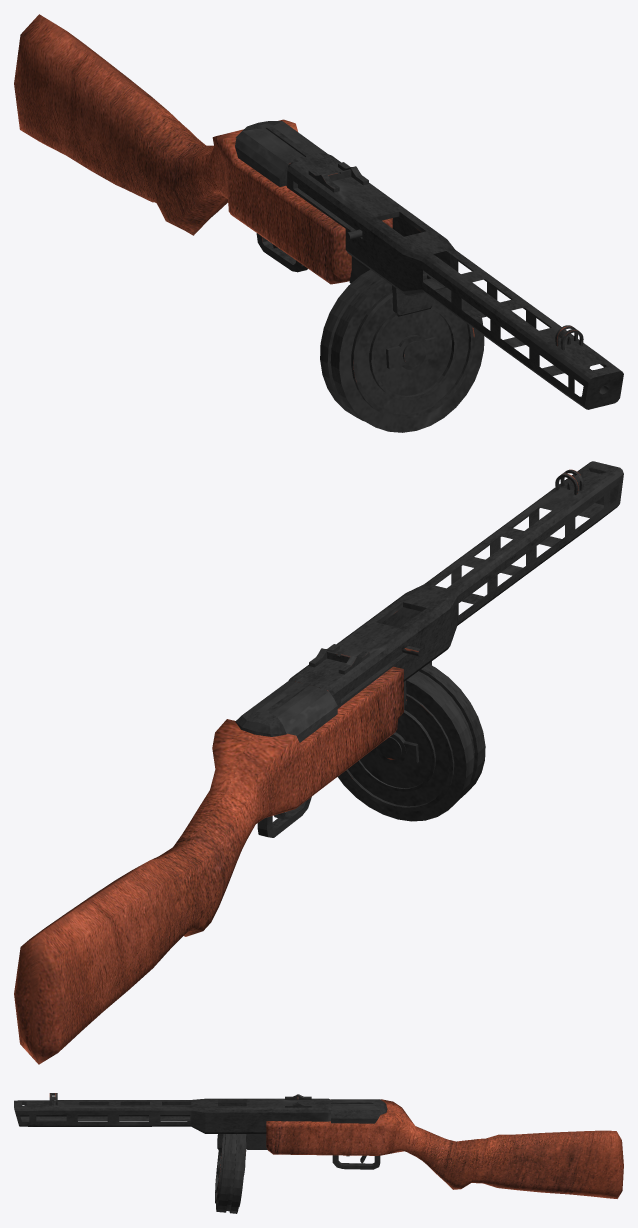
The model's file is PPSH.fbx.
The picture shows the model from 3 angles, top to bottom: view 1: azimuth 30°, elevation 25°; view 2: azimuth 150°, elevation 25°; view 3: azimuth 270°, elevation 25°; orthographic projection. The views are drawn at different scales.
Visible parts, largest first — view 1: Cylinder, Cylinder.001; view 2: Cylinder, Cylinder.001; view 3: Cylinder, Cylinder.001.
Boxes of the visible parts, x1,y1,x2,y2 form: Cylinder: (14,14,623,409); Cylinder.001: (320,269,484,432); Cylinder: (14,461,623,1064); Cylinder.001: (338,664,485,821); Cylinder: (14,1093,623,1198); Cylinder.001: (215,1134,246,1213).
Size of the model in its own units: 1.82 by 2.6 by 12.37.
